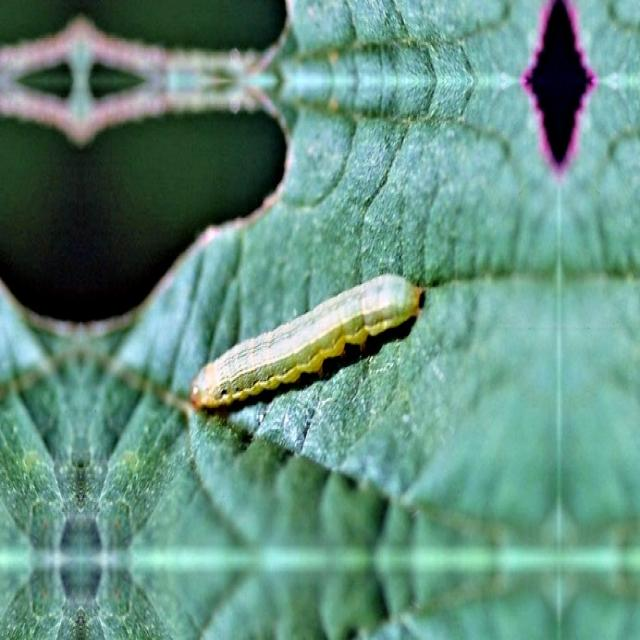armyworm: (188, 270, 425, 412)
